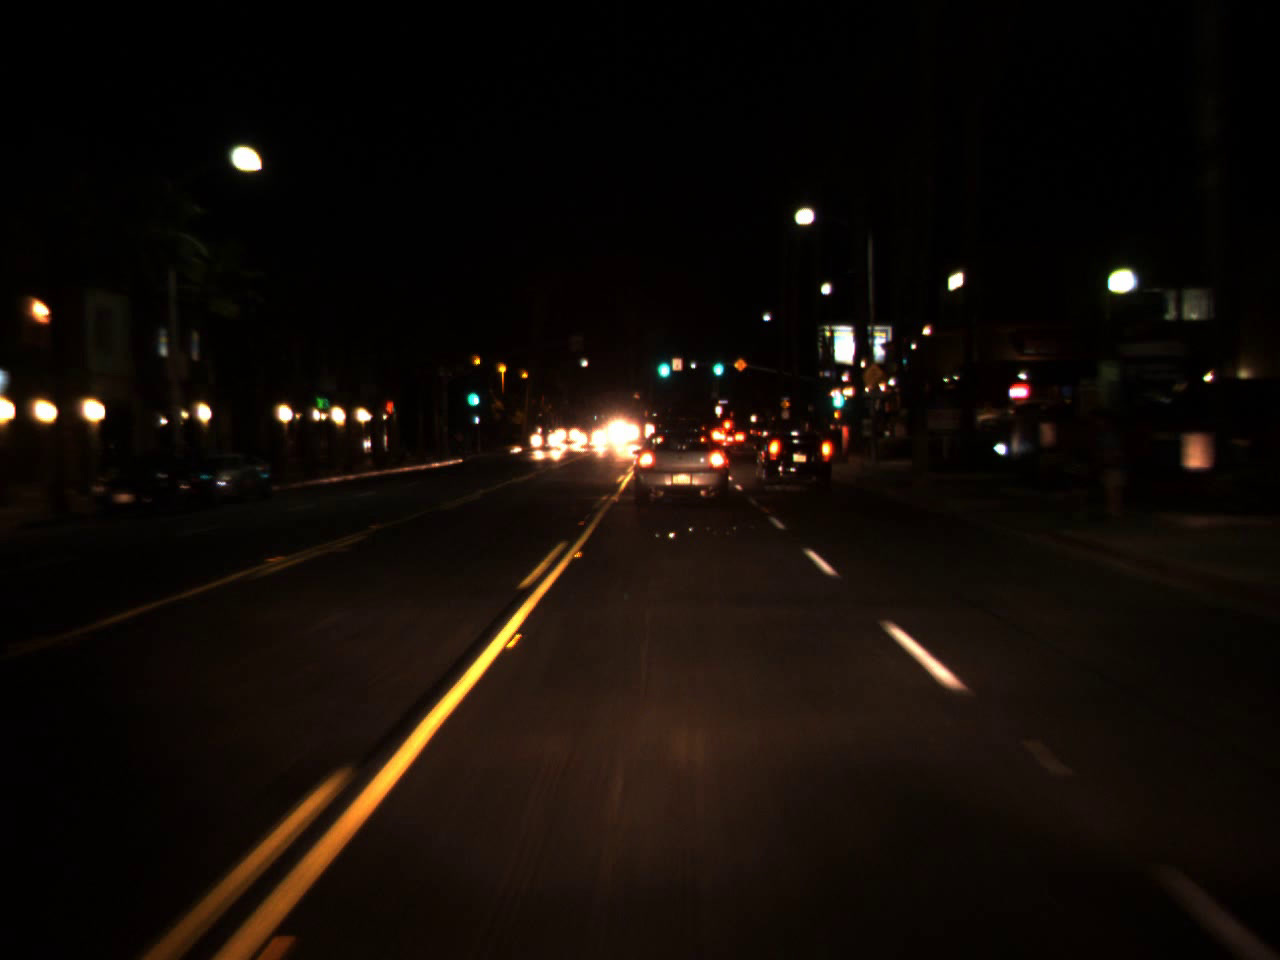go: (654, 341, 672, 380), (463, 376, 481, 412), (826, 381, 847, 411), (709, 350, 725, 377)
